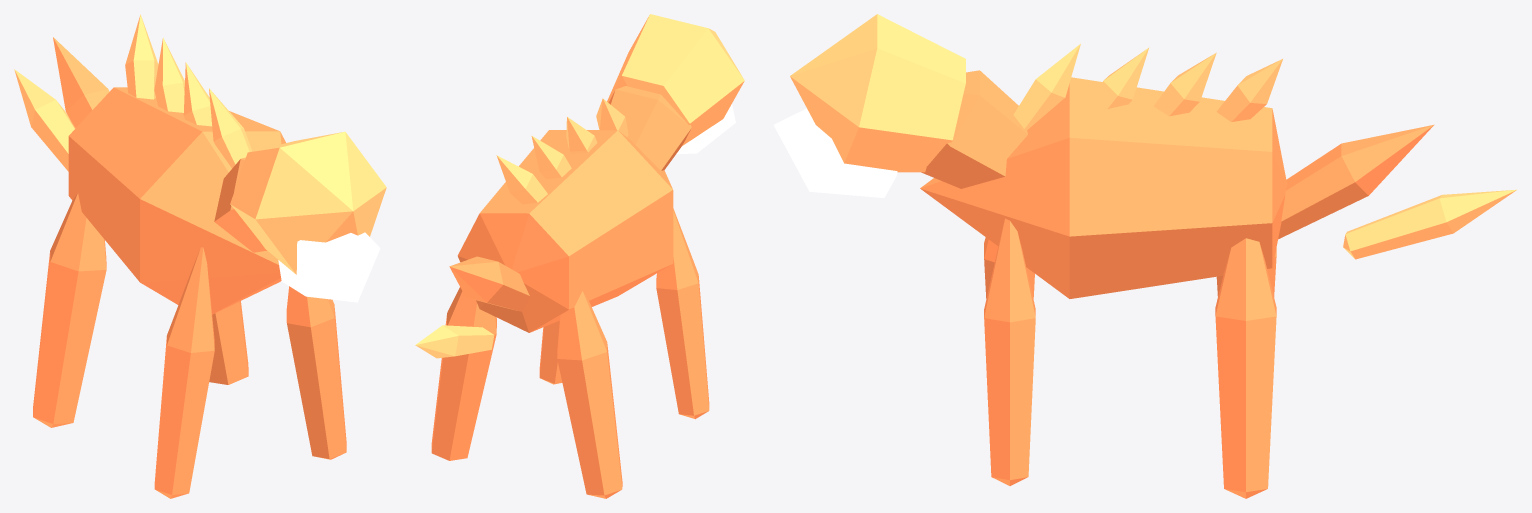
File: deep-fracture-creature-CrystalHound-fire.glb
3 renders of one model, left to right at view 1: azimuth 30°, elevation 25°; view 2: azimuth 150°, elevation 25°; view 3: azimuth 270°, elevation 25°, orthographic. The views are drawn at different scales.
Visible parts, largest first — view 1: rib-body, skull, hindleg-1, foreleg-1, foreleg1, jaw, hindleg1, tail-blade, tail-base, spine0, spine3, neck (+2 smaller); view 2: rib-body, skull, hindleg-1, foreleg-1, hindleg1, neck, tail-base, tail-blade, spine0, foreleg1, spine1, jaw (+2 smaller); view 3: rib-body, skull, hindleg1, foreleg1, tail-base, neck, tail-blade, jaw, spine3, spine0, spine1, spine2.
Part boxes in pixels (x1,y1,x2,y2): rib-body: (68, 87, 285, 314); skull: (230, 131, 386, 274); hindleg-1: (33, 193, 106, 427); foreleg-1: (154, 247, 214, 498); foreleg1: (286, 286, 346, 459); jaw: (278, 232, 380, 302); hindleg1: (209, 301, 248, 384); tail-blade: (14, 69, 75, 171); tail-base: (53, 37, 109, 128); spine0: (125, 14, 158, 99); spine3: (209, 88, 252, 168); neck: (214, 157, 266, 252); rib-body: (457, 130, 673, 332); skull: (607, 14, 744, 145); hindleg-1: (557, 291, 622, 498); foreleg-1: (656, 208, 709, 419); hindleg1: (431, 287, 496, 460); neck: (608, 86, 691, 170); tail-base: (449, 256, 529, 311); tail-blade: (415, 325, 494, 358); spine0: (496, 155, 547, 204); foreleg1: (539, 320, 562, 384); spine1: (531, 135, 571, 179); jaw: (676, 104, 735, 154); rib-body: (920, 77, 1287, 298); skull: (790, 14, 965, 172); hindleg1: (1215, 238, 1276, 498); foreleg1: (984, 218, 1035, 485); tail-base: (1278, 124, 1434, 239); neck: (921, 70, 1027, 188); tail-blade: (1343, 189, 1516, 259); jaw: (773, 108, 897, 197); spine3: (1013, 43, 1080, 129); spine0: (1216, 59, 1282, 121); spine1: (1153, 52, 1216, 116); spine2: (1091, 47, 1149, 108).
Bounding box in the file's own units: 0.9838 × 1.71 × 2.74.
